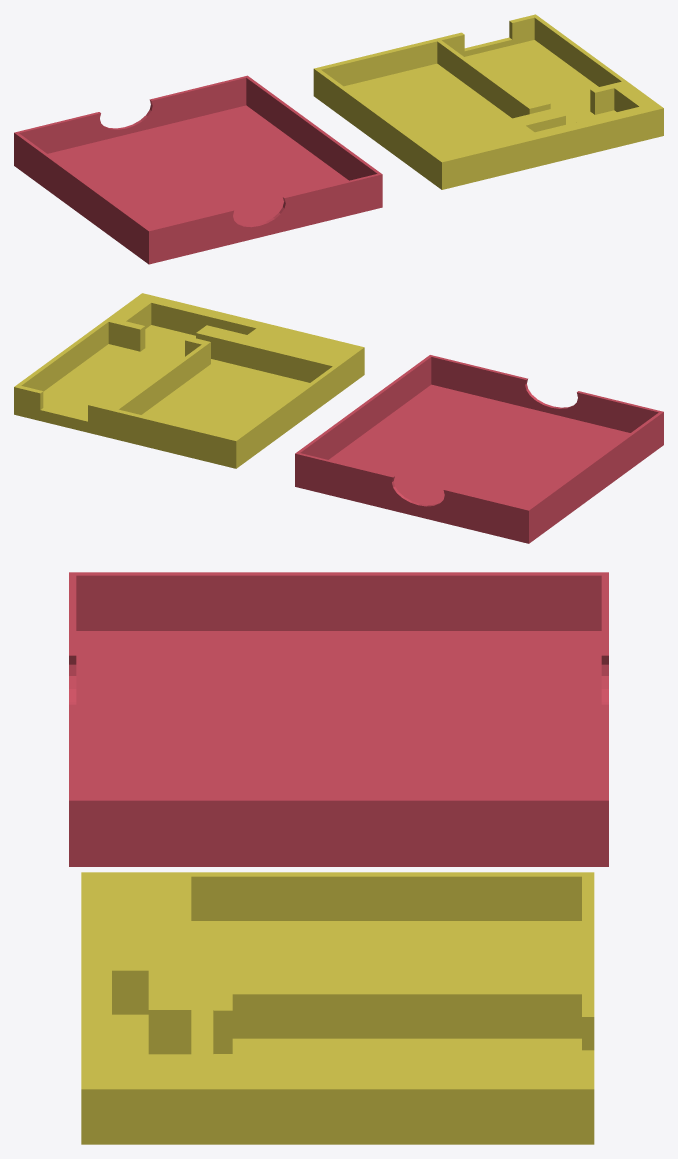
The model's file is Battery layer.glb.
3 views of the same model, one above another, from view 1: azimuth 30°, elevation 25°; view 2: azimuth 150°, elevation 25°; view 3: azimuth 270°, elevation 25° (orthographic). The views are drawn at different scales.
Parts seen in each view (by area): view 1: Mesh_Mesh_head_geo.001_lambert2SG.001; view 2: Mesh_Mesh_head_geo.001_lambert2SG.001; view 3: Mesh_Mesh_head_geo.001_lambert2SG.001.
Boxes of the visible parts, x1,y1,x2,y2 form: Mesh_Mesh_head_geo.001_lambert2SG.001: (14,14,663,264); Mesh_Mesh_head_geo.001_lambert2SG.001: (14,293,663,543); Mesh_Mesh_head_geo.001_lambert2SG.001: (69,572,608,1144).
Bounding box in the file's own units: 98 × 6 × 44.2.
